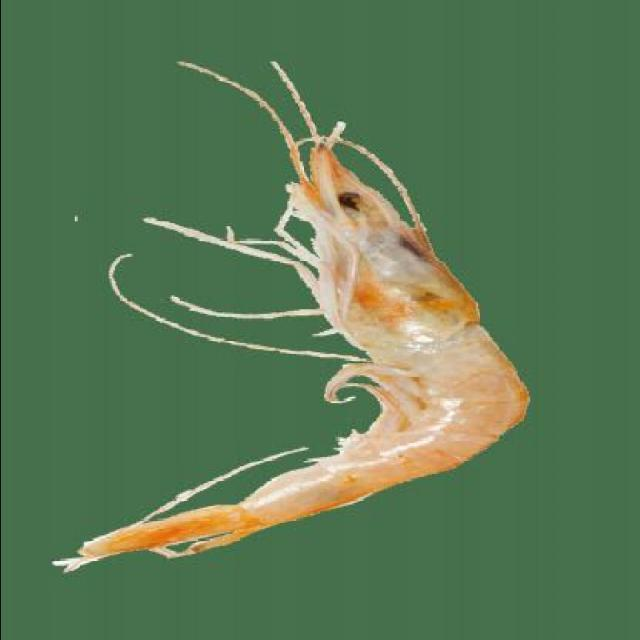shrimp: (67, 123, 528, 568)
